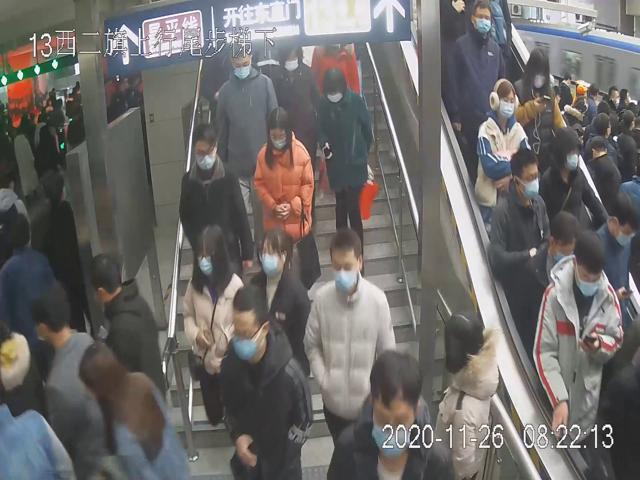person: (302, 222, 395, 448), (529, 231, 624, 452), (218, 285, 311, 479), (181, 222, 251, 427), (177, 122, 253, 292), (253, 104, 321, 286), (316, 62, 378, 250), (435, 308, 499, 478), (207, 40, 277, 184), (474, 75, 532, 226), (445, 0, 501, 156), (243, 226, 311, 348), (487, 148, 551, 277), (272, 40, 319, 146)
